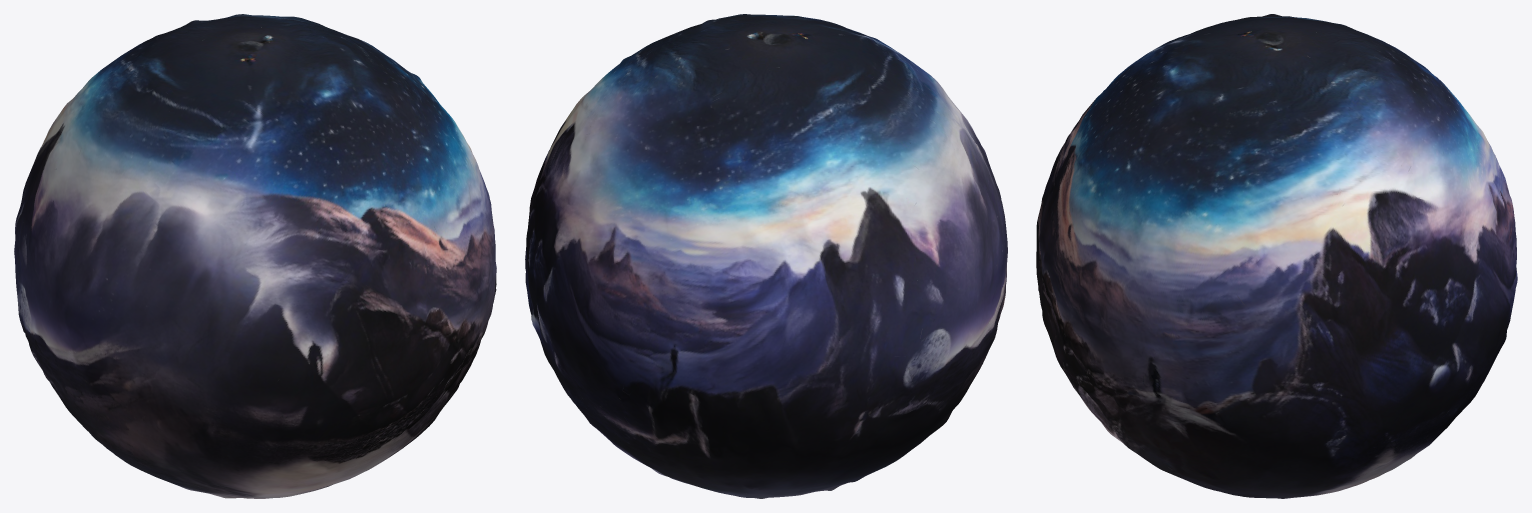
Rendered from Infinite_Horizon_0918061125.glb.
3 renders of one model, left to right at view 1: azimuth 30°, elevation 25°; view 2: azimuth 150°, elevation 25°; view 3: azimuth 270°, elevation 25°, orthographic.
Bounding box in the file's own units: 1.99 × 1.97 × 1.99.
Materials: 1 (1 with a texture image).
